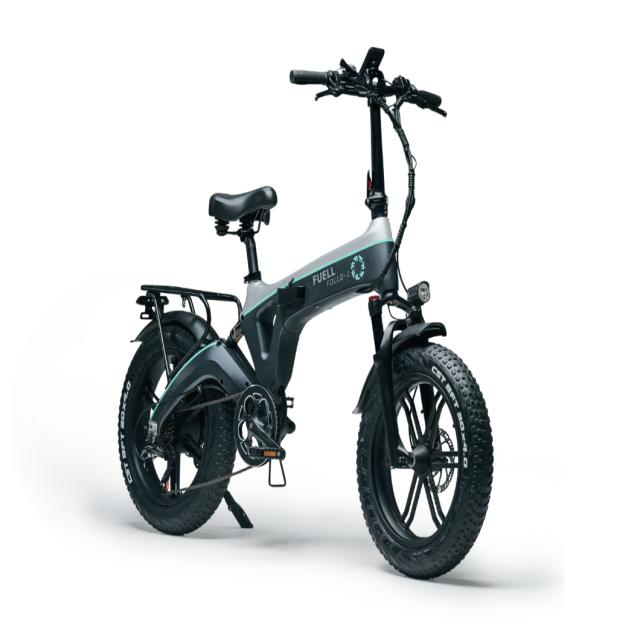folding-bike: (113, 44, 496, 584)
